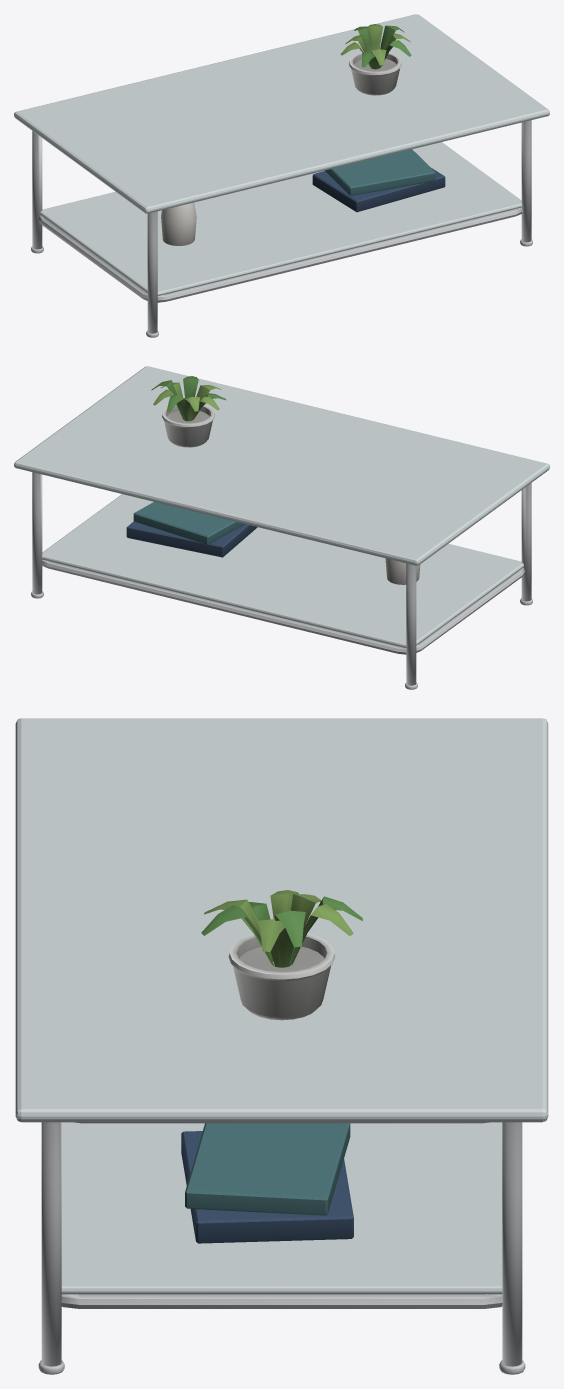
Rendered from coffeeTableGlass.glb.
3 renders of one model, top to bottom at view 1: azimuth 30°, elevation 25°; view 2: azimuth 150°, elevation 25°; view 3: azimuth 270°, elevation 25°, orthographic. The views are drawn at different scales.
Visible parts, largest first — view 1: coffeeTableGlass; view 2: coffeeTableGlass; view 3: coffeeTableGlass.
Part boxes in pixels (x1,y1,x2,y2): coffeeTableGlass: (14,14,549,337); coffeeTableGlass: (14,366,549,689); coffeeTableGlass: (15,718,548,1374).
Bounding box in the file's own units: 1.3 × 0.5891 × 0.74.
